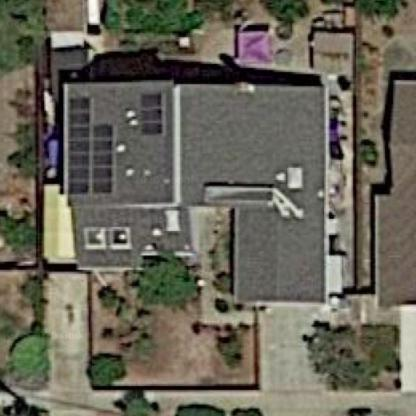solar_panel: (66, 89, 116, 202), (136, 89, 166, 141)
